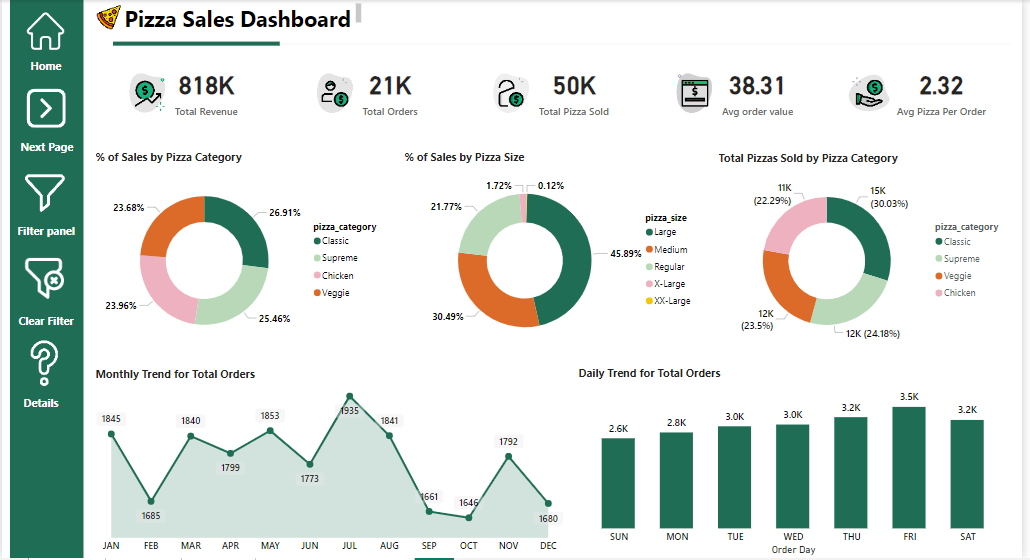

This screenshot's page, from the dashboard's own definition file:
{"tool":"powerbi","page":{"name":" Home","canvas":[1500,820],"ordinal":2},"visuals":[{"type":"donutChart","title":"% of Sales by Pizza Category","fields":{"Category":["pizza_sales.pizza_category"],"Y":["pizza_sales.Total Revenue"]},"box":[132.4,219.5,439.1,306.7],"z":0},{"type":"cardVisual","fields":{"Data":["pizza_sales.Total Revenue","pizza_sales.Total Orders","pizza_sales.Total Pizza Sold","pizza_sales.Avg order value","pizza_sales.Avg Pizza Per Order"]},"box":[129.1,74.3,1355.9,127.5],"z":1000},{"type":"columnChart","title":" Daily Trend for Total Orders","fields":{"Category":["pizza_sales.Order Day"],"Y":["pizza_sales.Total Orders"]},"box":[842.6,535.9,642.4,284.1],"z":3000},{"type":"areaChart","title":"Monthly Trend for Total Orders","fields":{"Y":["pizza_sales.Total Orders"],"Category":["pizza_sales.Order Month"]},"box":[132.4,537.5,698.9,282.5],"z":4000},{"type":"image","box":[129.1,3.2,54.9,45.2],"z":5000},{"type":"donutChart","title":" % of Sales by Pizza Size","fields":{"Y":["pizza_sales.Total Revenue"],"Category":["pizza_sales.pizza_size"]},"box":[585.9,219.5,443.9,306.7],"z":6000},{"type":"donutChart","title":"Total Pizzas Sold by Pizza Category","fields":{"Category":["pizza_sales.pizza_category"],"Y":["pizza_sales.Total Pizza Sold"]},"box":[1047.6,221.1,437.4,305.1],"z":7000},{"type":"shape","box":[11.3,0,108.1,820],"z":8000},{"type":"textbox","box":[37.1,80.7,79.1,37.1],"z":9000},{"type":"textbox","box":[25.8,576.3,79.1,35.5],"z":10000},{"type":"textbox","box":[19.4,455.2,117.8,37.1],"z":12000},{"type":"textbox","box":[22.6,200.2,114.6,37.1],"z":14000},{"type":"textbox","box":[17.8,322.8,117.8,37.1],"z":16000},{"type":"textbox","box":[174.2,0,358.1,45.2],"z":17000},{"type":"shape","box":[174.3,46.8,1307.5,35.5],"z":18000},{"type":"shape","box":[163,45.2,245.4,37.1],"z":19000},{"type":"image","box":[25.8,12.9,74.3,64.6],"z":20000},{"type":"image","box":[25.8,117.8,77.5,83.9],"z":21000},{"type":"image","box":[24.2,237.3,79.1,90.4],"z":22000},{"type":"image","box":[19.4,363.2,83.9,92],"z":23000},{"type":"image","box":[24.2,492.3,77.5,83.9],"z":24000}]}

Visuals, with their boxes on the page's 1500x820 design canvas (x1, y1, x2, y2). These are canvas units, not pixel positions in the 1030x560 screenshot, which may show the page scaled, cropped or inside an application window:
"% of Sales by Pizza Category" donutChart: box=[132, 220, 572, 526]
cardVisual - pizza_sales.Total Revenue x pizza_sales.Total Orders: box=[129, 74, 1485, 202]
" Daily Trend for Total Orders" columnChart: box=[843, 536, 1485, 820]
"Monthly Trend for Total Orders" areaChart: box=[132, 538, 831, 820]
image: box=[129, 3, 184, 48]
" % of Sales by Pizza Size" donutChart: box=[586, 220, 1030, 526]
"Total Pizzas Sold by Pizza Category" donutChart: box=[1048, 221, 1485, 526]
shape: box=[11, 0, 119, 820]
textbox: box=[37, 81, 116, 118]
textbox: box=[26, 576, 105, 612]
textbox: box=[19, 455, 137, 492]
textbox: box=[23, 200, 137, 237]
textbox: box=[18, 323, 136, 360]
textbox: box=[174, 0, 532, 45]
shape: box=[174, 47, 1482, 82]
shape: box=[163, 45, 408, 82]
image: box=[26, 13, 100, 78]
image: box=[26, 118, 103, 202]
image: box=[24, 237, 103, 328]
image: box=[19, 363, 103, 455]
image: box=[24, 492, 102, 576]
